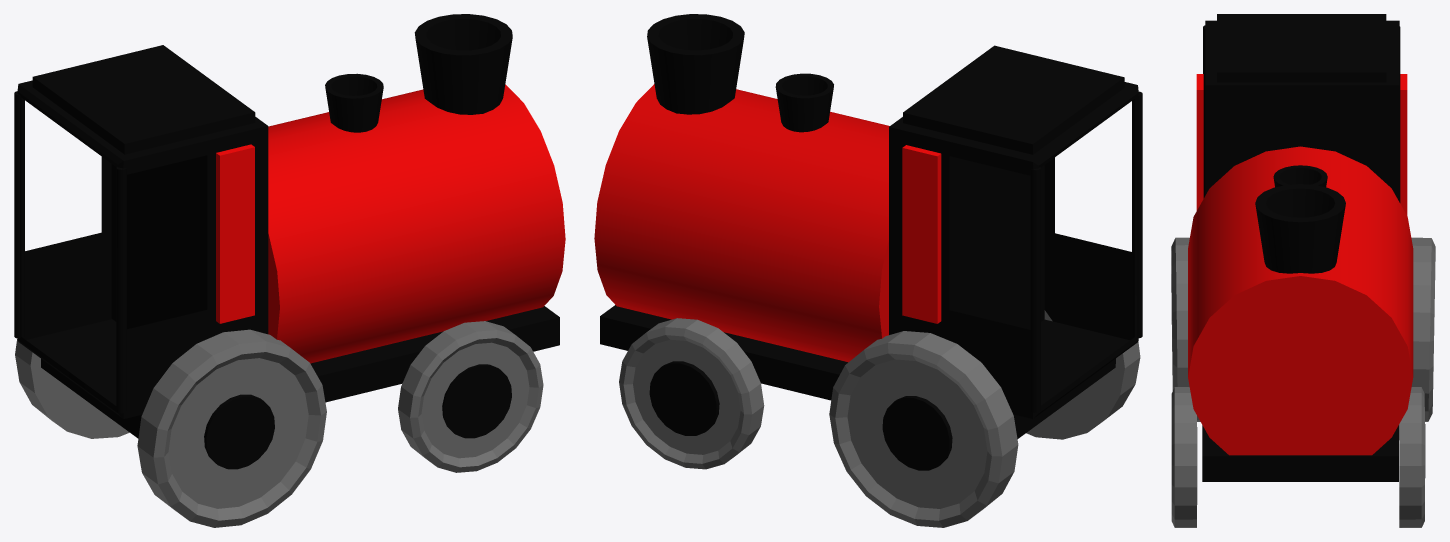
The model's file is Train.fbx.
The picture shows the model from 3 angles, left to right: view 1: azimuth 30°, elevation 25°; view 2: azimuth 150°, elevation 25°; view 3: azimuth 270°, elevation 25°; orthographic projection. The views are drawn at different scales.
Parts seen in each view (by area): view 1: pCylinder6, pCube1, pasted__pasted__pCylinder3, pasted__pCylinder3 (×2), pCube4, pCube3, pCylinder2, pCube2, pCube5, pCylinder5, pasted__pCylinder5, pasted__pCylinder2 (+2 smaller); view 2: pCylinder6, pCube1, pasted__pCylinder3, pasted__pasted__pCylinder3 (×2), pCube4, pCube3, pCylinder2, pCube2, pasted__pCube5, pasted__pasted__pCylinder5, pasted__pCylinder5, pasted__pCylinder2 (+2 smaller); view 3: pCylinder6, pCube1, pCube4, pasted__pCylinder3 (×2), pCylinder2, pCube2, pasted__pasted__pCylinder3 (×2), pasted__pCube5, pCube5, pasted__pCylinder2, pCylinder4, pasted__pCylinder4.
Boxes of the visible parts, x1=… form: pCylinder6: x1=268, y1=84, x2=565, y2=363; pCube1: x1=17, y1=80, x2=268, y2=418; pasted__pasted__pCylinder3: x1=137, y1=329, x2=326, y2=527; pasted__pCylinder3 (×2): x1=15, y1=321, x2=543, y2=472; pCube4: x1=32, y1=45, x2=255, y2=154; pCube3: x1=111, y1=155, x2=207, y2=329; pCylinder2: x1=414, y1=14, x2=512, y2=114; pCube2: x1=41, y1=306, x2=559, y2=438; pCube5: x1=216, y1=144, x2=254, y2=323; pCylinder5: x1=204, y1=394, x2=274, y2=469; pasted__pCylinder5: x1=442, y1=364, x2=511, y2=438; pasted__pCylinder2: x1=325, y1=73, x2=383, y2=132; pCylinder6: x1=594, y1=84, x2=889, y2=362; pCube1: x1=889, y1=82, x2=1138, y2=418; pasted__pCylinder3: x1=829, y1=331, x2=1018, y2=527; pasted__pasted__pCylinder3 (×2): x1=619, y1=310, x2=1140, y2=469; pCube4: x1=903, y1=45, x2=1124, y2=154; pCube3: x1=949, y1=156, x2=1044, y2=329; pCylinder2: x1=647, y1=14, x2=744, y2=114; pCube2: x1=600, y1=305, x2=1115, y2=438; pasted__pCube5: x1=902, y1=145, x2=941, y2=323; pasted__pasted__pCylinder5: x1=649, y1=361, x2=719, y2=435; pasted__pCylinder5: x1=882, y1=396, x2=952, y2=470; pasted__pCylinder2: x1=775, y1=73, x2=833, y2=132; pCylinder6: x1=1188, y1=146, x2=1413, y2=455; pCube1: x1=1205, y1=20, x2=1399, y2=201; pCube4: x1=1217, y1=14, x2=1386, y2=82; pasted__pCylinder3 (×2): x1=1171, y1=237, x2=1435, y2=527; pCylinder2: x1=1255, y1=184, x2=1345, y2=273; pCube2: x1=1202, y1=425, x2=1398, y2=481; pasted__pasted__pCylinder3 (×2): x1=1171, y1=237, x2=1424, y2=527; pasted__pCube5: x1=1400, y1=74, x2=1407, y2=215; pCube5: x1=1196, y1=74, x2=1203, y2=210; pasted__pCylinder2: x1=1273, y1=165, x2=1327, y2=187; pCylinder4: x1=1203, y1=25, x2=1205, y2=198; pasted__pCylinder4: x1=1399, y1=26, x2=1400, y2=202.
Bounding box in the file's own units: 5.28 × 4.48 × 2.99.
